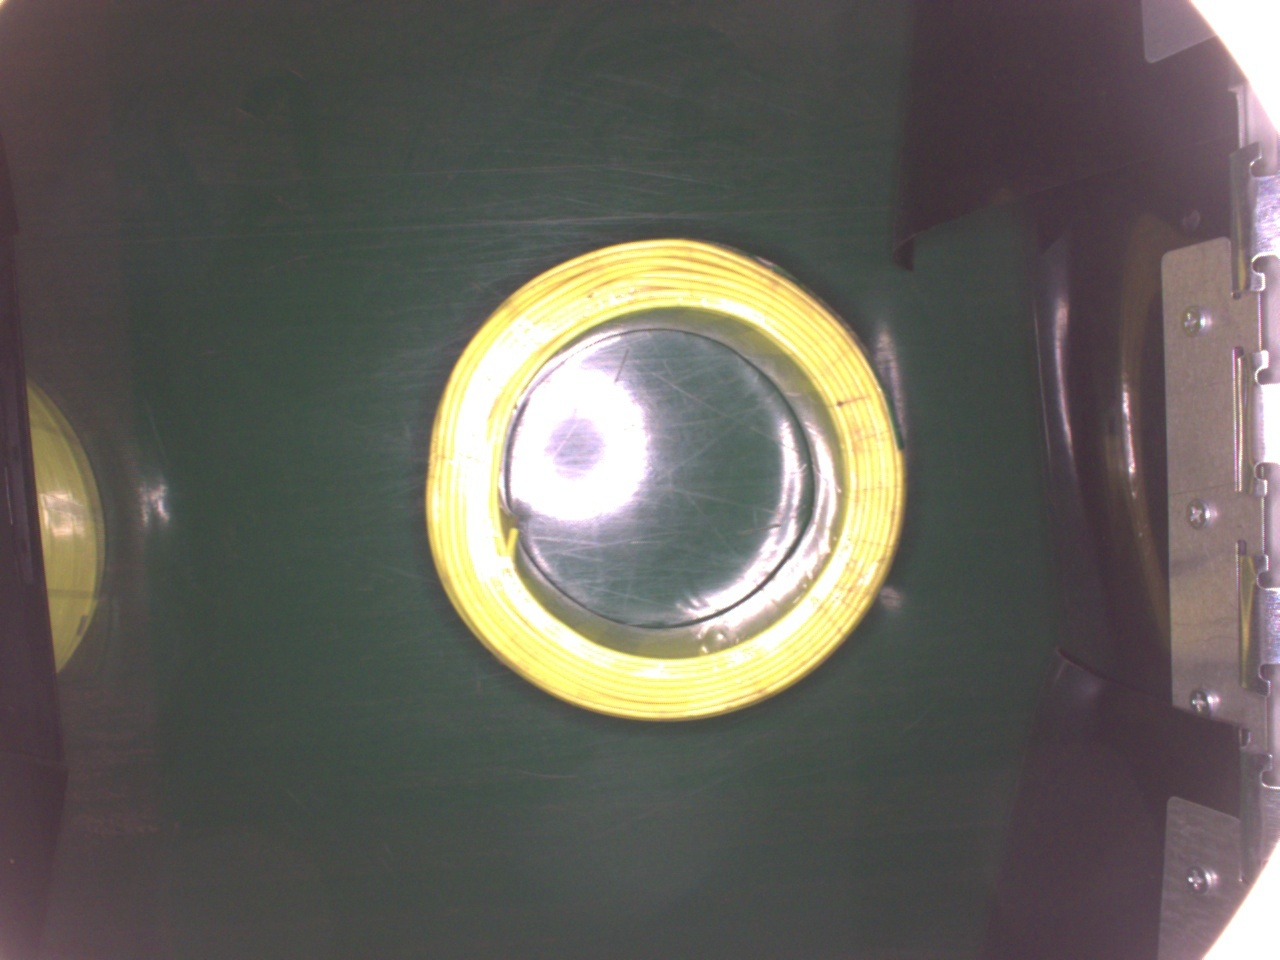yellow: (414, 227, 898, 720)
